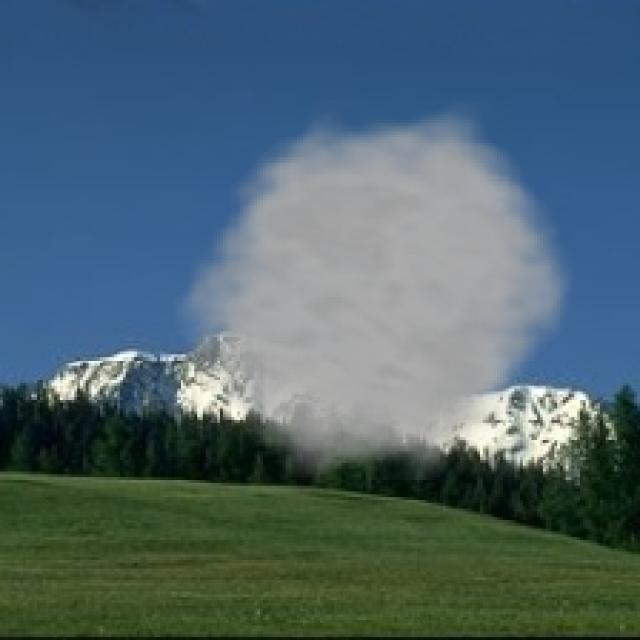Smoke: (166, 97, 583, 480)
